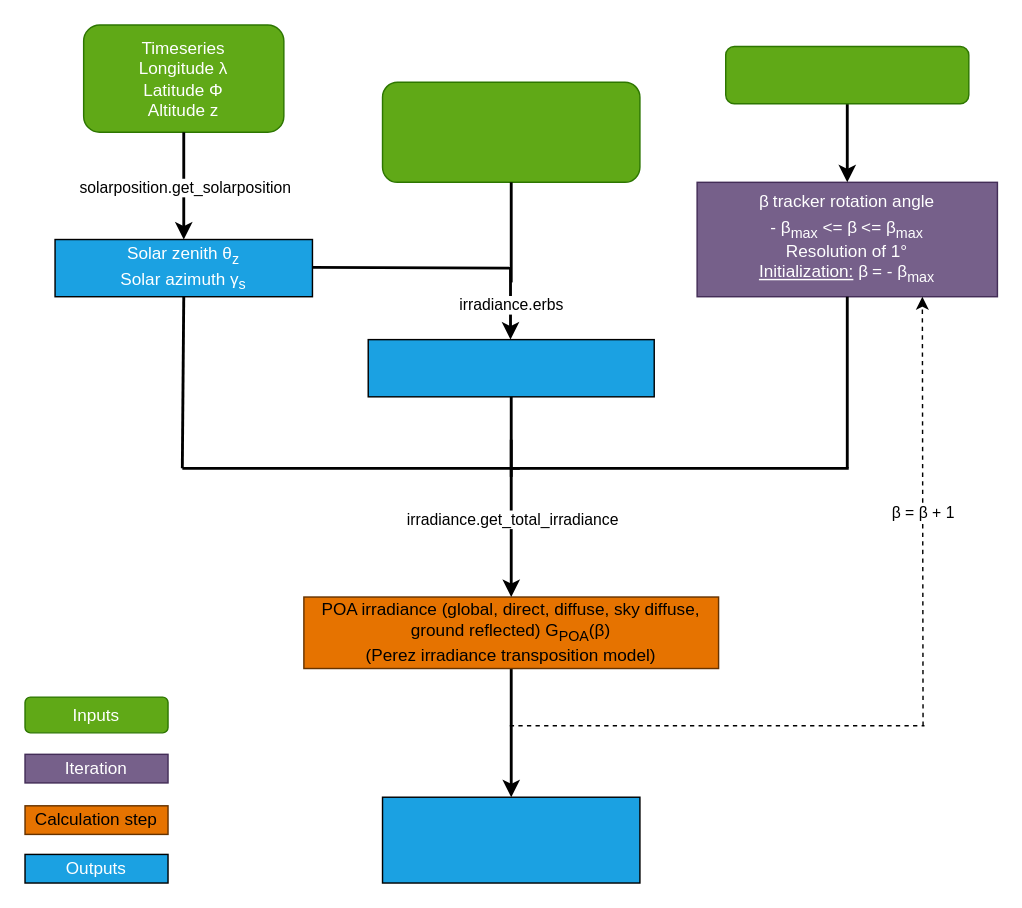
This 1022x908 diagram has some shape labels left out. Each missing label, with the box of its shape:
DHI, DNI (Erbs decomposition model): (367, 338, 654, 397)
Maximum rotation angle β max: (724, 45, 969, 104)
Optimal rotation angle β opt POA irradiance G POA,opt: (381, 796, 640, 883)
Tracker/axis azimuth γ a Tracker/axis tilt β a Real weather data GHI: (381, 81, 640, 182)
